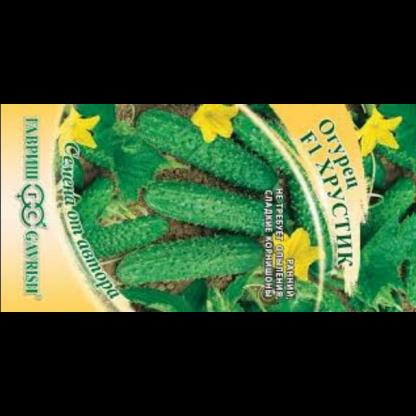cucumber: (140, 115, 284, 189), (122, 184, 287, 243), (101, 233, 270, 290), (356, 172, 416, 262), (67, 163, 128, 222)
